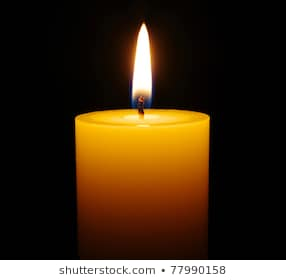Fire: (129, 19, 156, 114)
